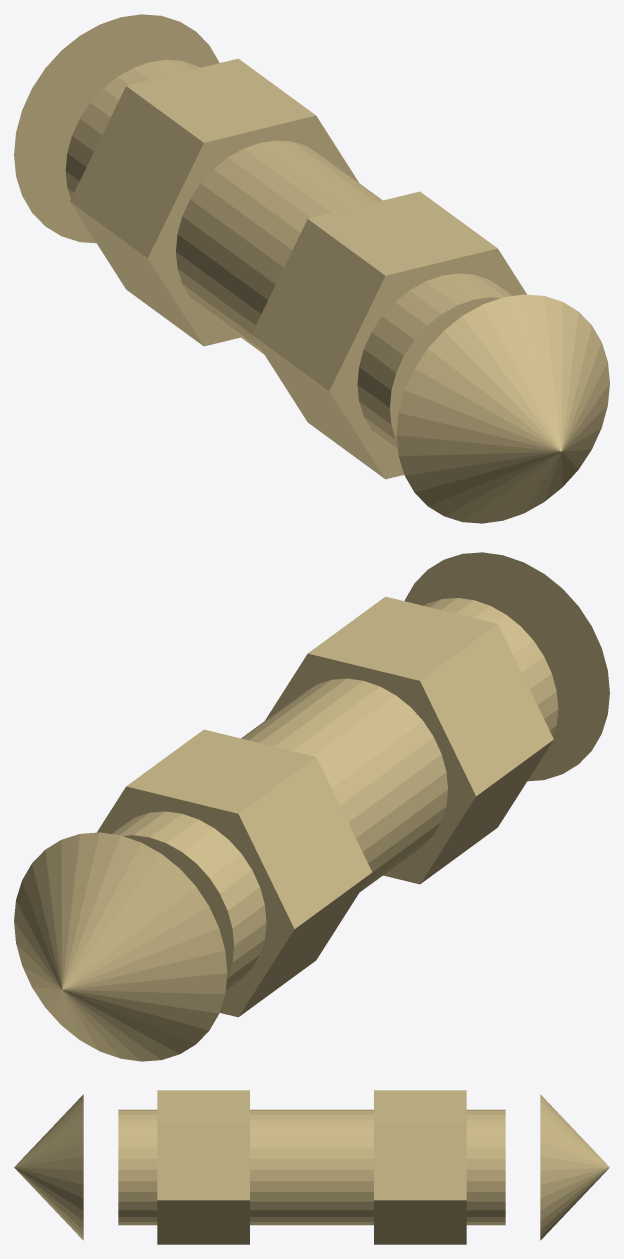
3 views of the same model, one above another, from view 1: azimuth 30°, elevation 25°; view 2: azimuth 150°, elevation 25°; view 3: azimuth 270°, elevation 25° (orthographic). The views are drawn at different scales.
Parts seen in each view (by area): view 1: world; view 2: world; view 3: world.
Part boxes in pixels (x1,y1,x2,y2): world: (14,14,609,523); world: (14,552,609,1061); world: (14,1090,609,1244).
Bounding box in the file's own units: 0.416 × 0.3952 × 1.6.
